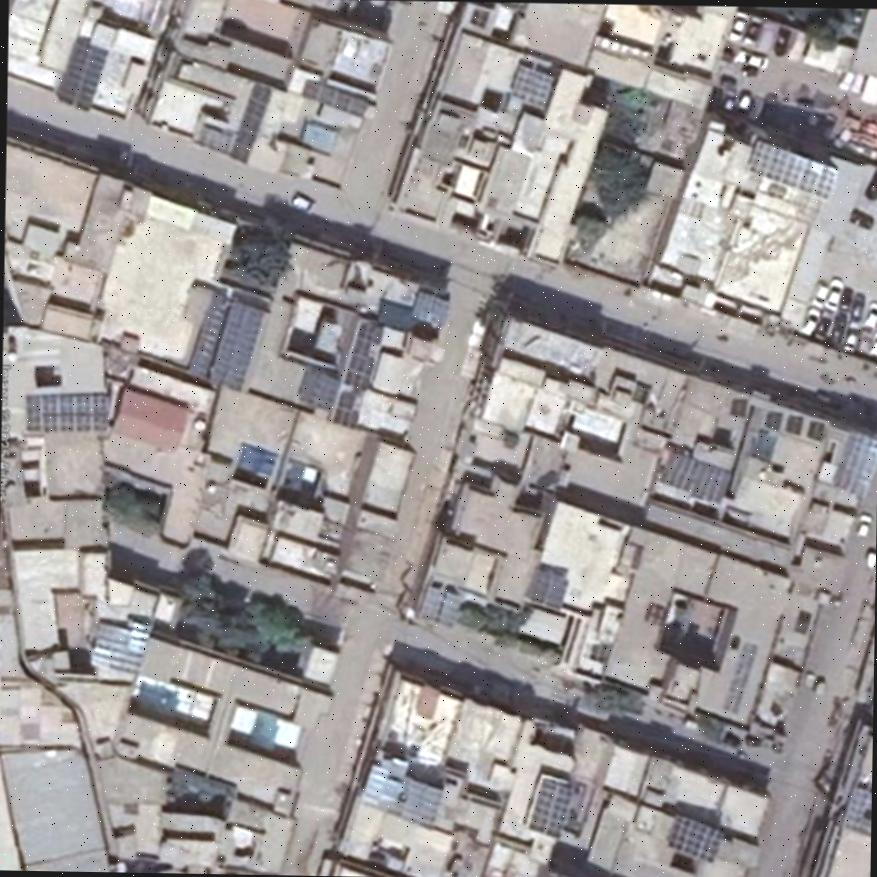Solarpanel: (186, 288, 264, 389), (331, 320, 383, 427), (750, 140, 839, 197), (658, 451, 731, 503), (229, 81, 273, 161), (832, 430, 877, 503), (56, 42, 106, 106), (25, 392, 108, 429), (529, 776, 573, 838), (669, 812, 723, 861), (305, 81, 368, 114), (513, 64, 554, 109), (421, 585, 456, 625), (531, 568, 565, 607), (844, 784, 871, 826)
